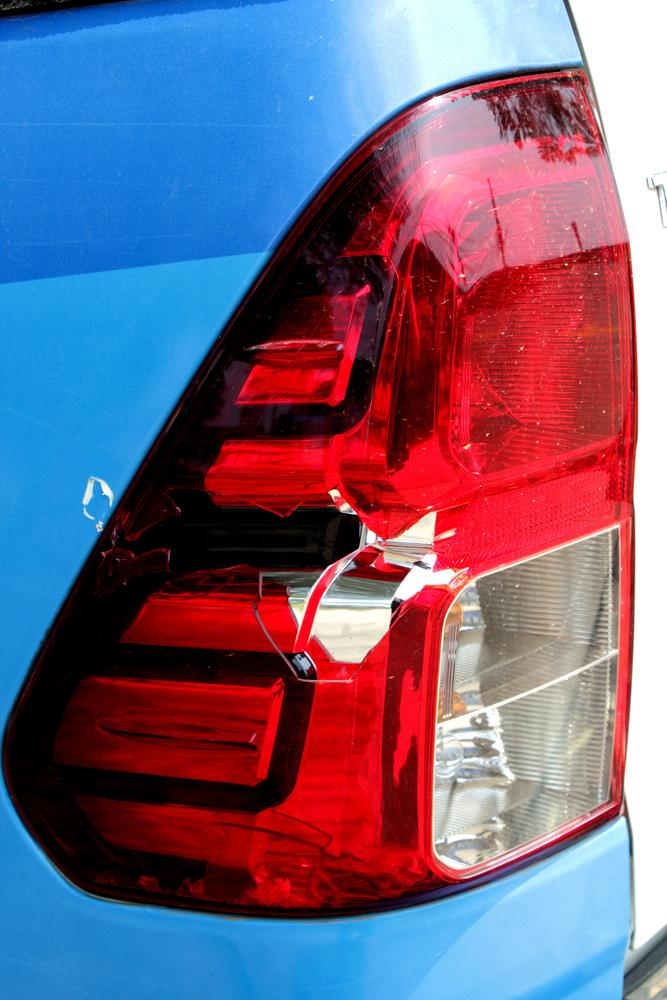lamp broken: (2, 68, 638, 922)
